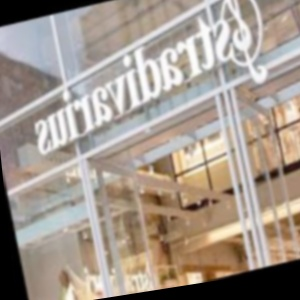stradivarius: (51, 78, 300, 124)
